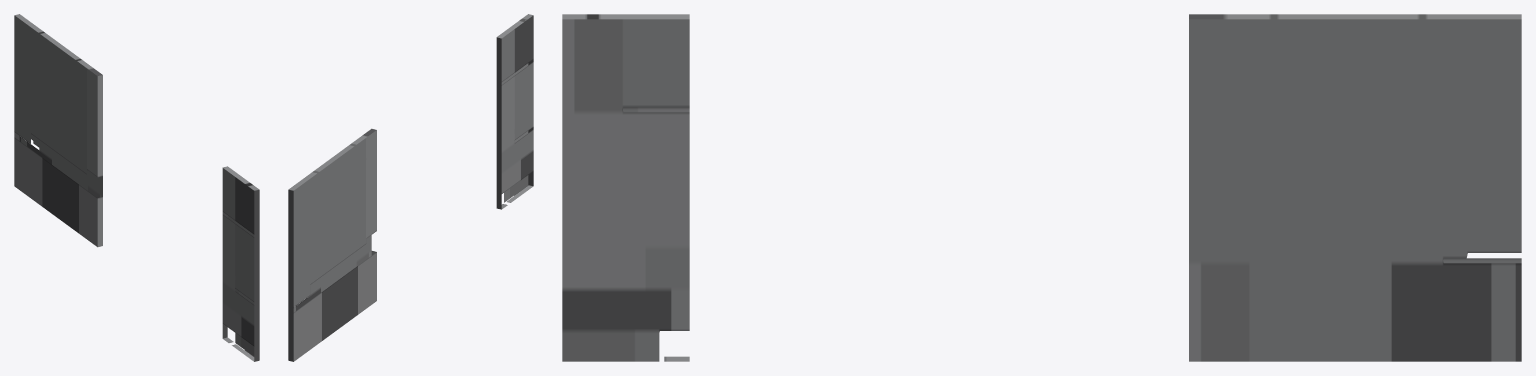
3 views of the same model, side by side, from view 1: azimuth 30°, elevation 25°; view 2: azimuth 150°, elevation 25°; view 3: azimuth 270°, elevation 25° (orthographic). The views are drawn at different scales.
Size of the model in its own units: 0.0309 by 0.9682 by 2.46.
